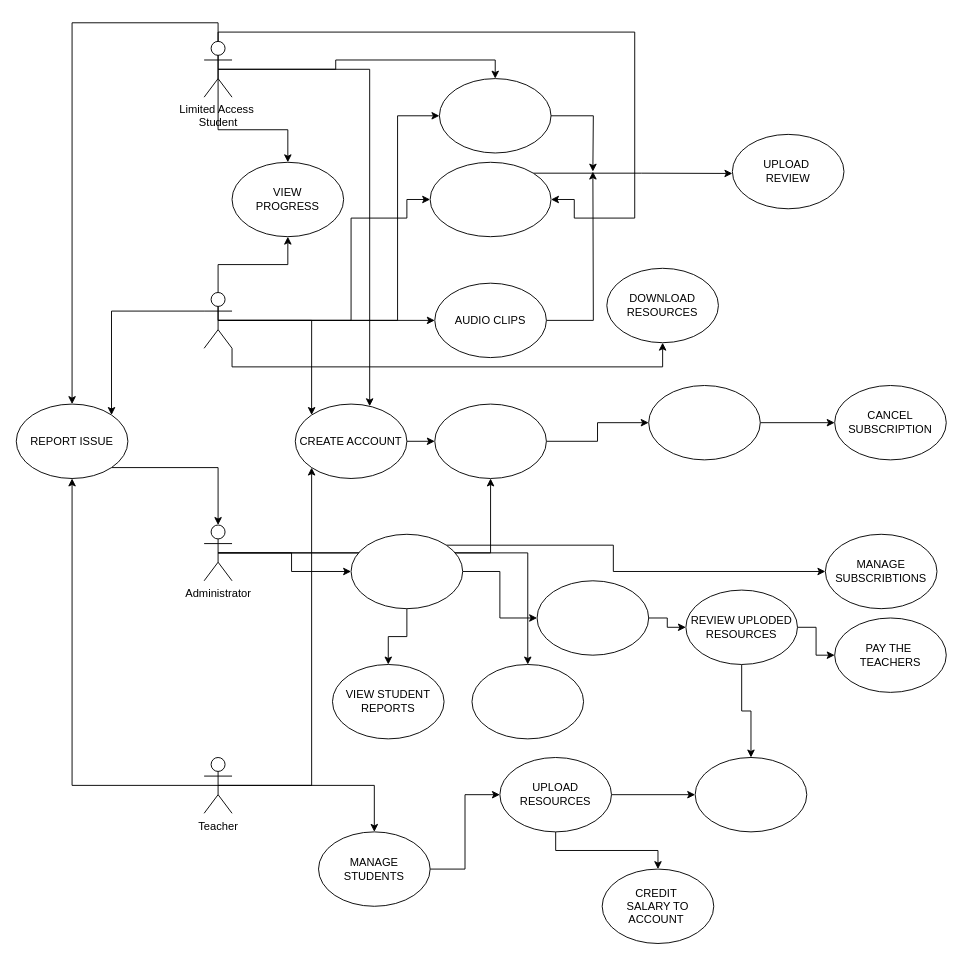
The diagram is 963 pixels wide and 960 high, and some of its shapes have lost their labels. Each missing label, with the centre of its shape:
"ADD STUDENTS & TEACCHERS" goes at (x=406, y=571).
"Annual Subscription User" goes at (x=217, y=320).
"BUY SUBSCRIPTION" goes at (x=704, y=422).
"LOG IN" goes at (x=490, y=440).
"MANAGE COURSE" goes at (x=592, y=617).
"MANAGE RESOURCES" goes at (x=750, y=794).
"NOTES" goes at (x=490, y=199).
"RESOLVE ISSUES" goes at (x=527, y=701).
"VIDEOS" goes at (x=494, y=115).
